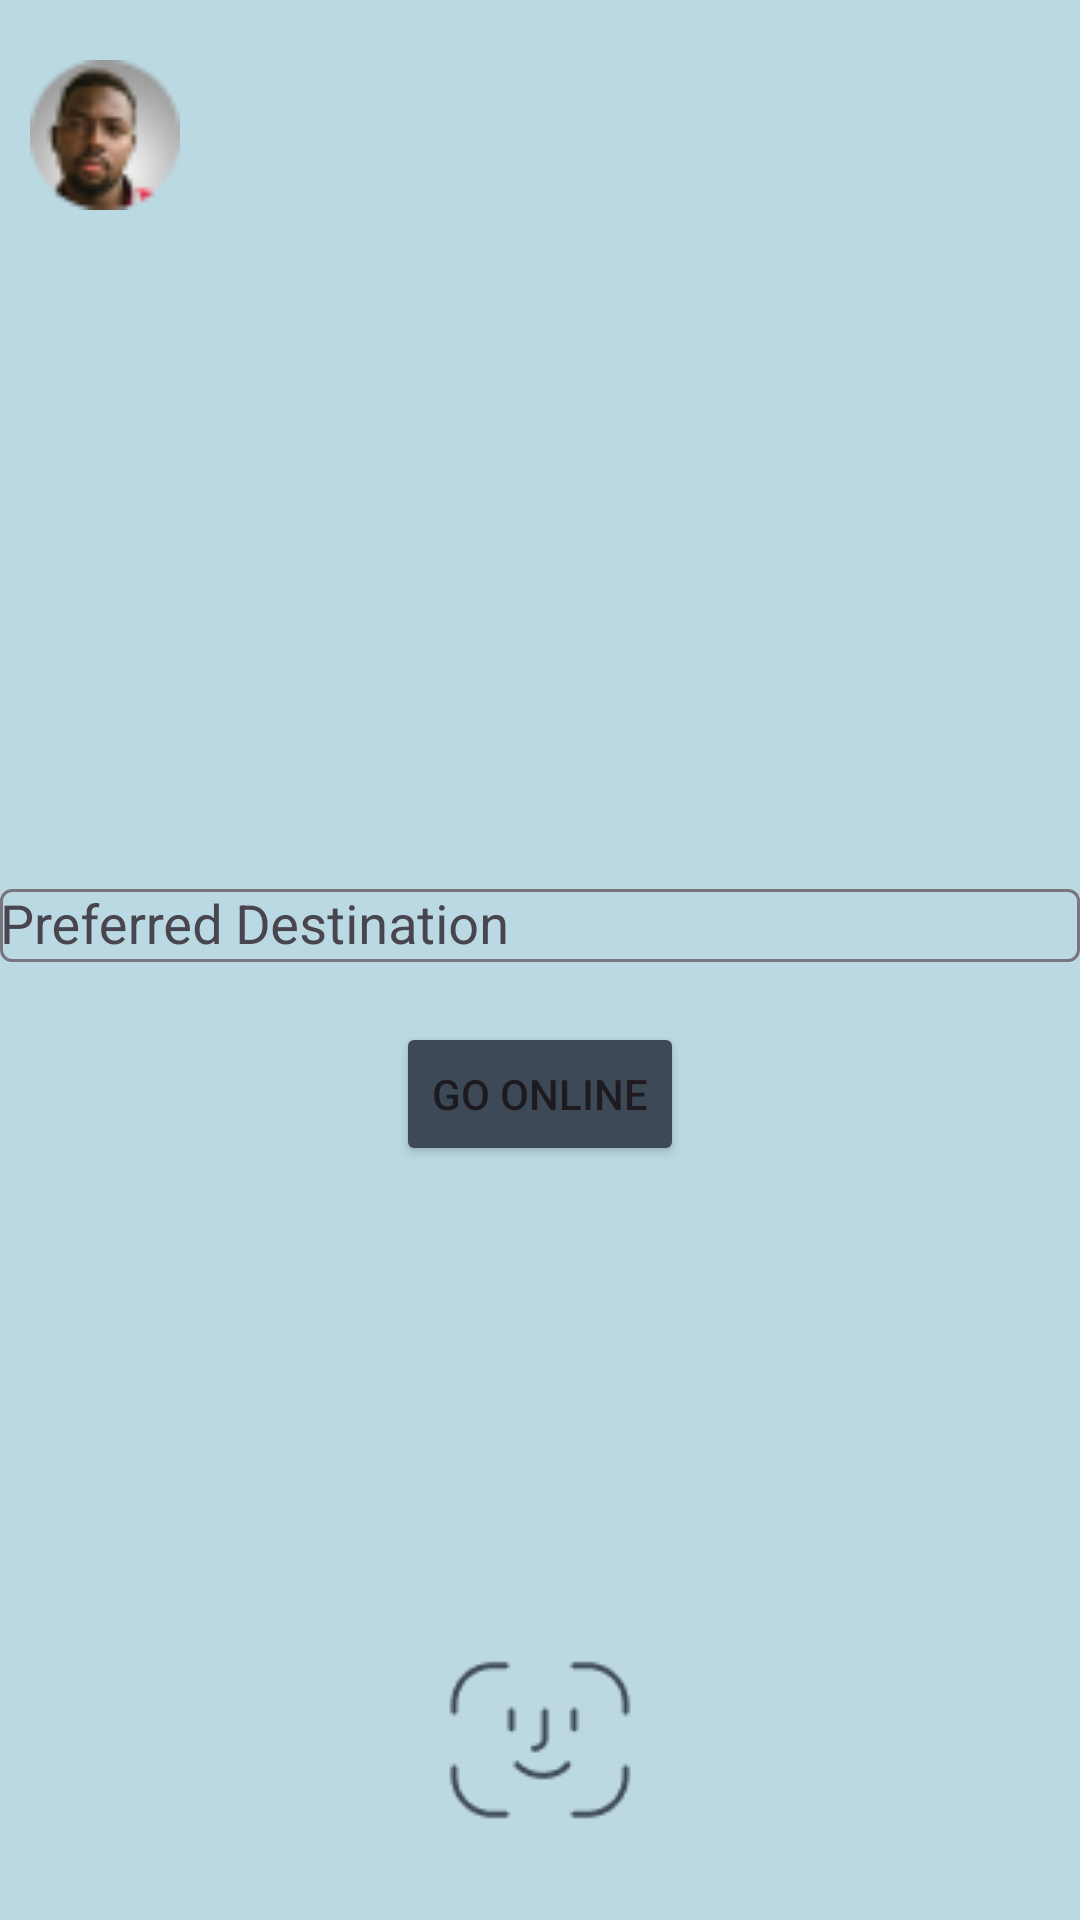

Icon bounding boxes for this 1080 x 1920 phone screenshot, format (x1, y1, x2, y2):
user driver: (30, 60, 180, 210)
